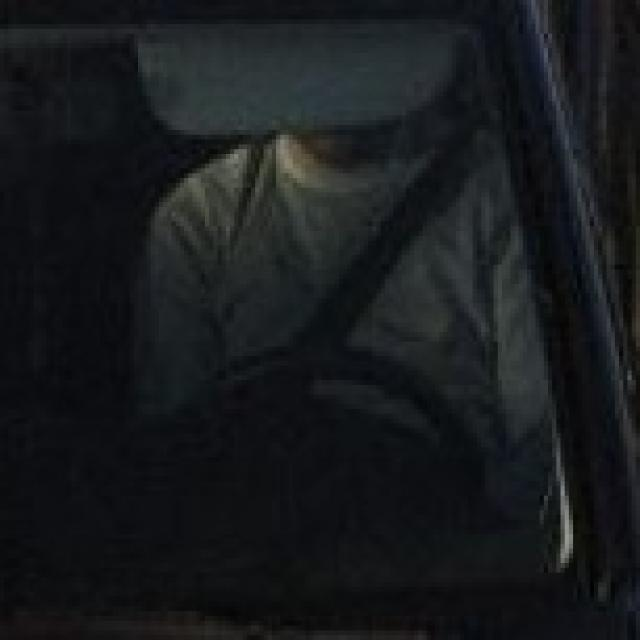seatbelt: (292, 111, 486, 327)
